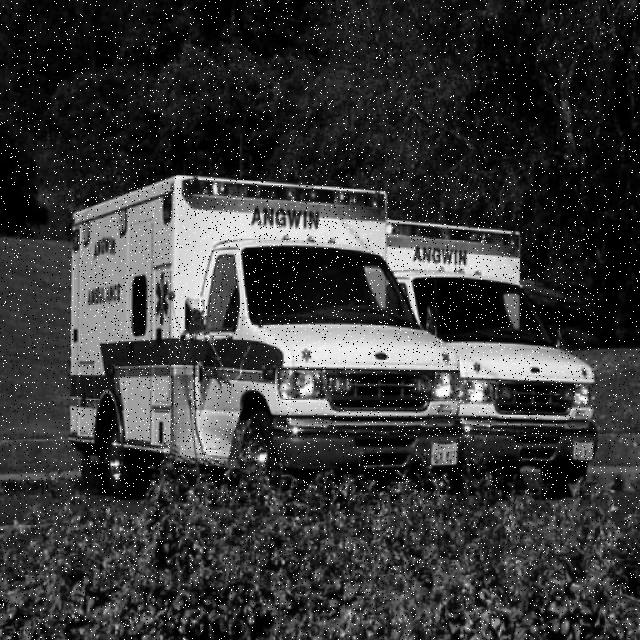Ambulance: (69, 176, 465, 502), (386, 220, 598, 494)
